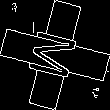M_E: (25, 26, 85, 84)
